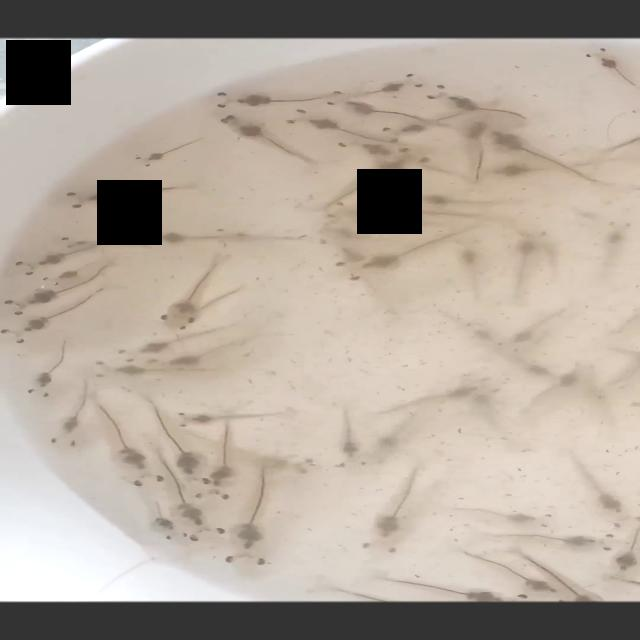shrimp4: (91, 398, 166, 490), (360, 461, 426, 557), (212, 112, 318, 168), (157, 246, 229, 324), (224, 463, 270, 567), (62, 181, 208, 208), (49, 376, 93, 451), (26, 335, 74, 399), (446, 502, 561, 528), (582, 44, 639, 92), (131, 134, 213, 167), (174, 406, 288, 429), (90, 361, 226, 380), (332, 403, 368, 471), (209, 91, 326, 109)
